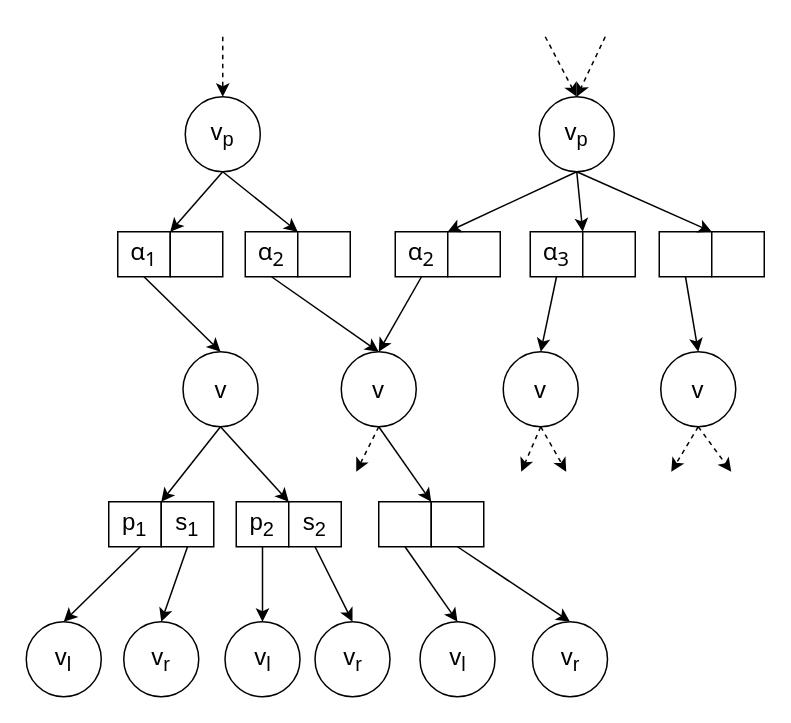
The diagram is 791 pixels wide and 723 high, and some of its shapes have lost their labels. Here are the shapes that lost their labels. From the top down, the centre of each, then its label:
At point 685,253: "α 4".
At point 404,523: "p 3".
At point 457,523: "s 3".
